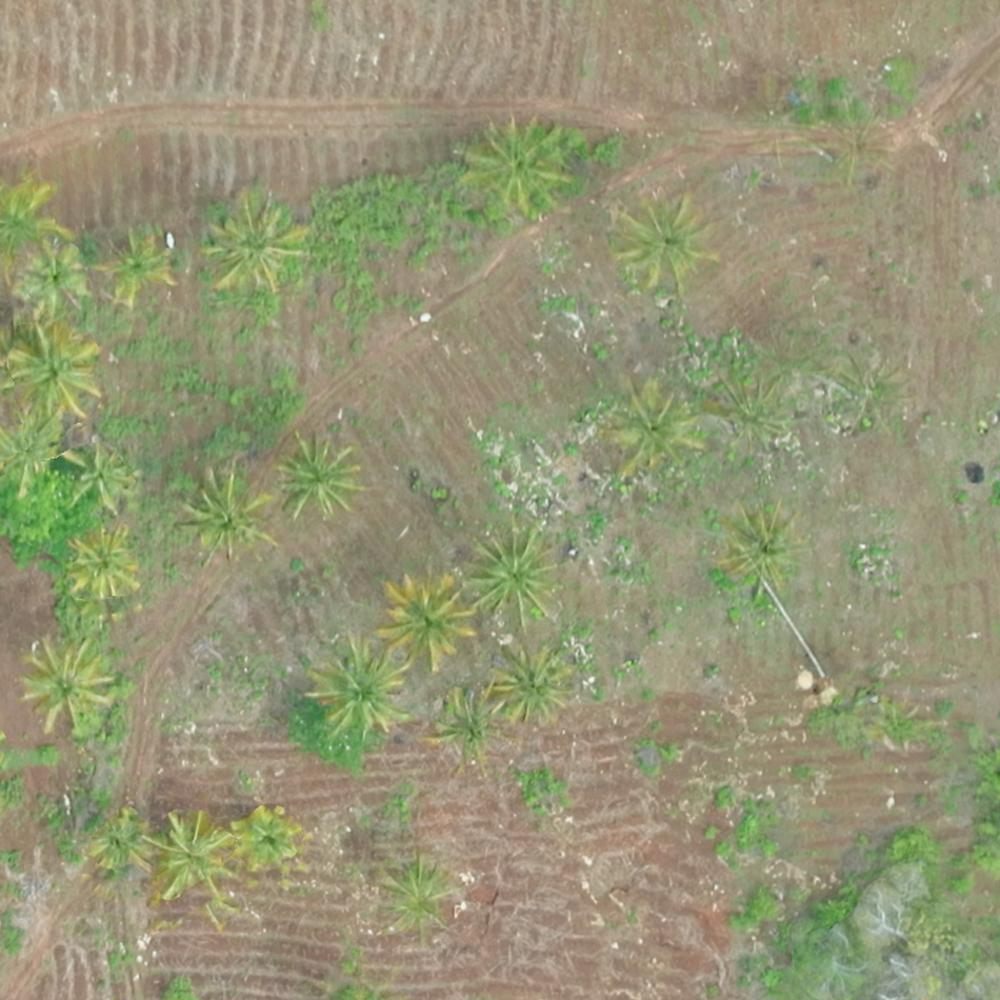Palm: (608, 194, 712, 292), (460, 119, 564, 215), (309, 636, 407, 734), (470, 529, 562, 624), (9, 323, 99, 418), (181, 471, 274, 562), (383, 571, 474, 661), (205, 194, 294, 286), (20, 639, 114, 723), (147, 811, 234, 901), (607, 386, 702, 468), (274, 432, 358, 516), (720, 500, 801, 586), (484, 642, 568, 724), (61, 432, 137, 512), (17, 238, 91, 314), (378, 856, 450, 932), (63, 526, 137, 598), (425, 692, 501, 762), (101, 234, 174, 305), (230, 805, 296, 877)
